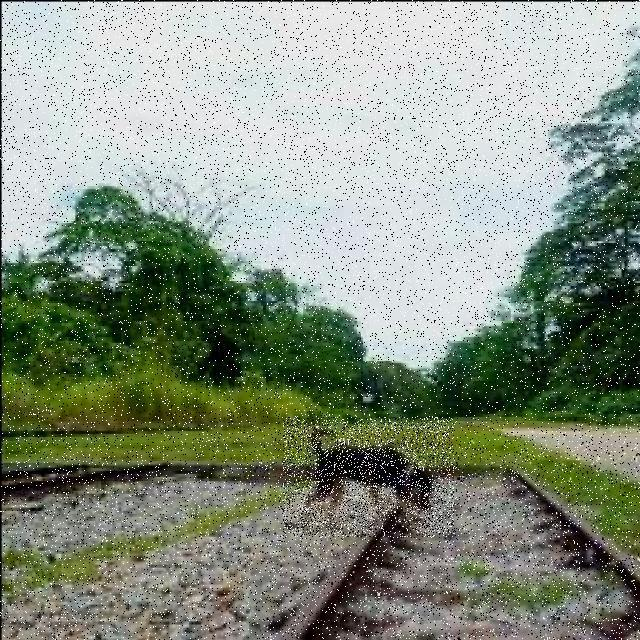danger: (283, 417, 454, 537)
rail: (251, 437, 639, 639)
